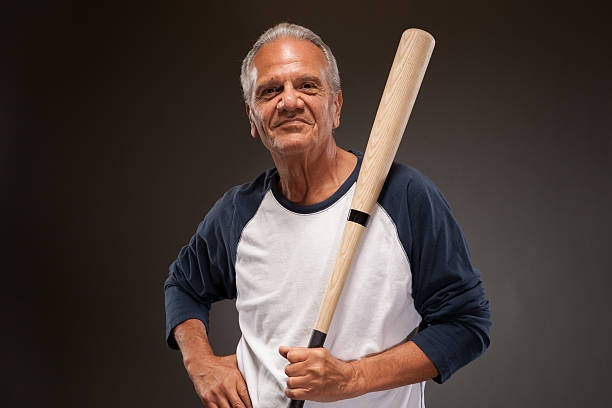bita: (310, 26, 438, 358)
